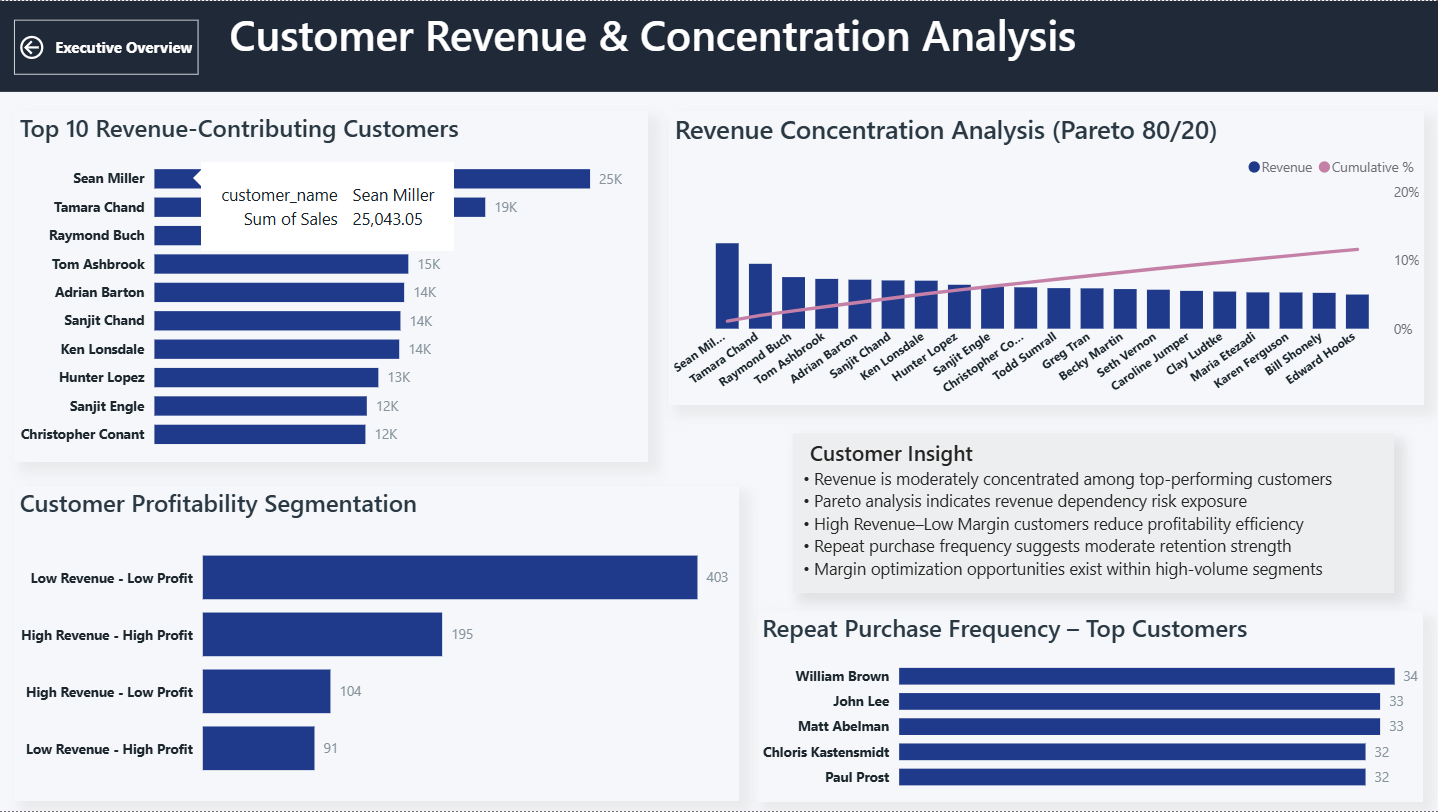

The dashboard page shown, as its layout file describes it:
{"tool":"powerbi","page":{"name":"Customer Revenue & Retention Analysis","canvas":[1280,720],"ordinal":3},"visuals":[{"type":"textbox","box":[0,0,1280,80.7],"z":0},{"type":"clusteredBarChart","title":"Top 10 Revenue-Contributing Customers","fields":{"Category":["retail_analysis customers.customer_name"],"Y":["Sum(retail_analysis orders.Sales)"]},"box":[13.5,97.8,563.7,311.8],"z":1000},{"type":"actionButton","box":[13.5,17.1,163.9,48.9],"z":2000},{"type":"textbox","box":[705.6,384,534.4,141.8],"z":3000},{"type":"lineClusteredColumnComboChart","title":"Revenue Concentration Analysis (Pareto 80/20)","fields":{"Category":["retail_analysis customers.customer_name"],"Y":["retail_analysis orders.Total Revenue"],"Y2":["retail_analysis customers.Cumulative %"]},"box":[595.5,97.8,671.3,261.7],"z":4000},{"type":"barChart","title":"Customer Profitability Segmentation","fields":{"Category":["Customer Summary.Customer Segment"],"Y":["CountNonNull(Customer Summary.customer_id)"]},"box":[13.6,431.3,644.4,279.7],"z":5000},{"type":"barChart","title":"Repeat Purchase Frequency – Top Customers","fields":{"Category":["retail_analysis customers.customer_name"],"Y":["select","CountNonNull(retail_analysis orders.order_id)"]},"box":[673.8,541.7,593.1,170],"z":6000}]}

Visuals, with their boxes in screenshot pixels (x1, y1, x2, y2), scaled from the page's 1280x720 canvas onto the 1438x812 screenshot:
textbox: crop(0, 0, 1437, 91)
"Top 10 Revenue-Contributing Customers" clusteredBarChart: crop(15, 110, 648, 462)
actionButton: crop(15, 19, 199, 74)
textbox: crop(793, 433, 1393, 593)
"Revenue Concentration Analysis (Pareto 80/20)" lineClusteredColumnComboChart: crop(669, 110, 1423, 405)
"Customer Profitability Segmentation" barChart: crop(15, 486, 739, 802)
"Repeat Purchase Frequency – Top Customers" barChart: crop(757, 611, 1423, 803)
